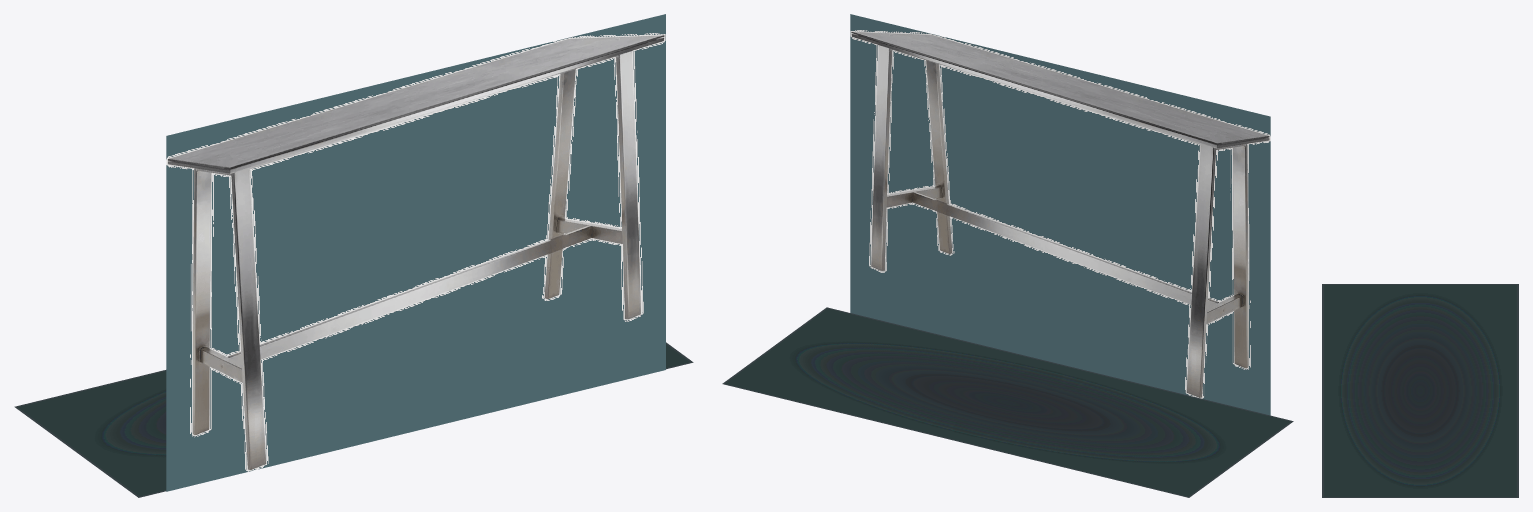
The model's file is garden-tables-bari-bar-table-hpl.glb.
3 views of the same model, side by side, from view 1: azimuth 30°, elevation 25°; view 2: azimuth 150°, elevation 25°; view 3: azimuth 270°, elevation 25° (orthographic). The views are drawn at different scales.
Visible parts, largest first — view 1: Foto garden-tables-bari-bar-table-hpl, Grundflaeche; view 2: Foto garden-tables-bari-bar-table-hpl, Grundflaeche; view 3: Grundflaeche.
Boxes of the visible parts, x1,y1,x2,y2 form: Foto garden-tables-bari-bar-table-hpl: (166,14,665,491); Grundflaeche: (14,342,693,497); Foto garden-tables-bari-bar-table-hpl: (850,14,1270,415); Grundflaeche: (722,307,1293,497); Grundflaeche: (1322,284,1518,497).
Bounding box in the file's own units: 1.75 × 1.07 × 0.68.
2 materials, 2 textured.
